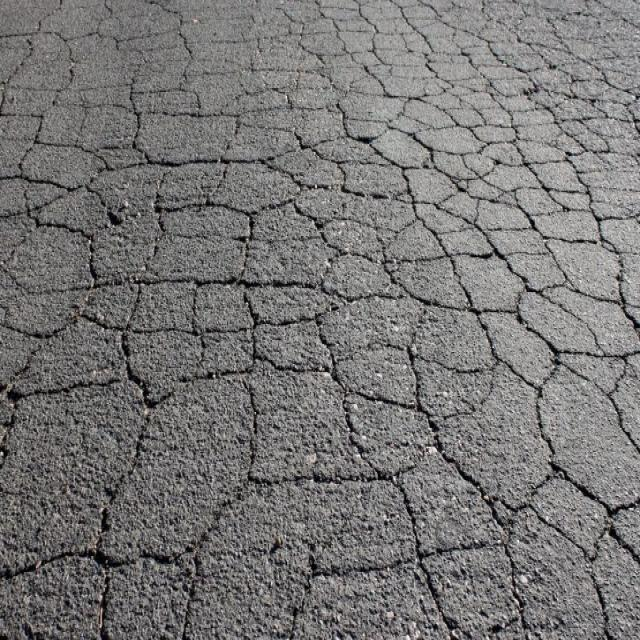Drain Hole: (16, 4, 640, 628)
